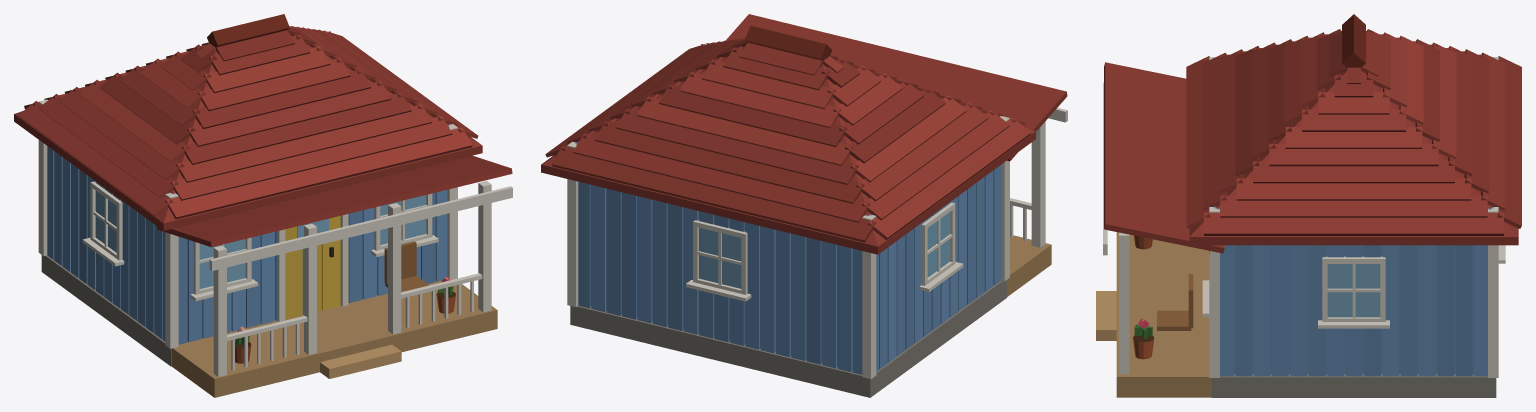
The model's file is casa_vecino_porche.glb.
3 views of the same model, side by side, from view 1: azimuth 30°, elevation 25°; view 2: azimuth 150°, elevation 25°; view 3: azimuth 270°, elevation 25° (orthographic). The views are drawn at different scales.
Parts seen in each view (by area): view 1: SM_CasaVecino_porche; view 2: SM_CasaVecino_porche; view 3: SM_CasaVecino_porche.
Boxes of the visible parts, x1,y1,x2,y2 form: SM_CasaVecino_porche: [14, 14, 512, 397]; SM_CasaVecino_porche: [541, 14, 1067, 397]; SM_CasaVecino_porche: [1096, 14, 1521, 397].
Size of the model in its own units: 5.38 by 4.16 by 5.56.
